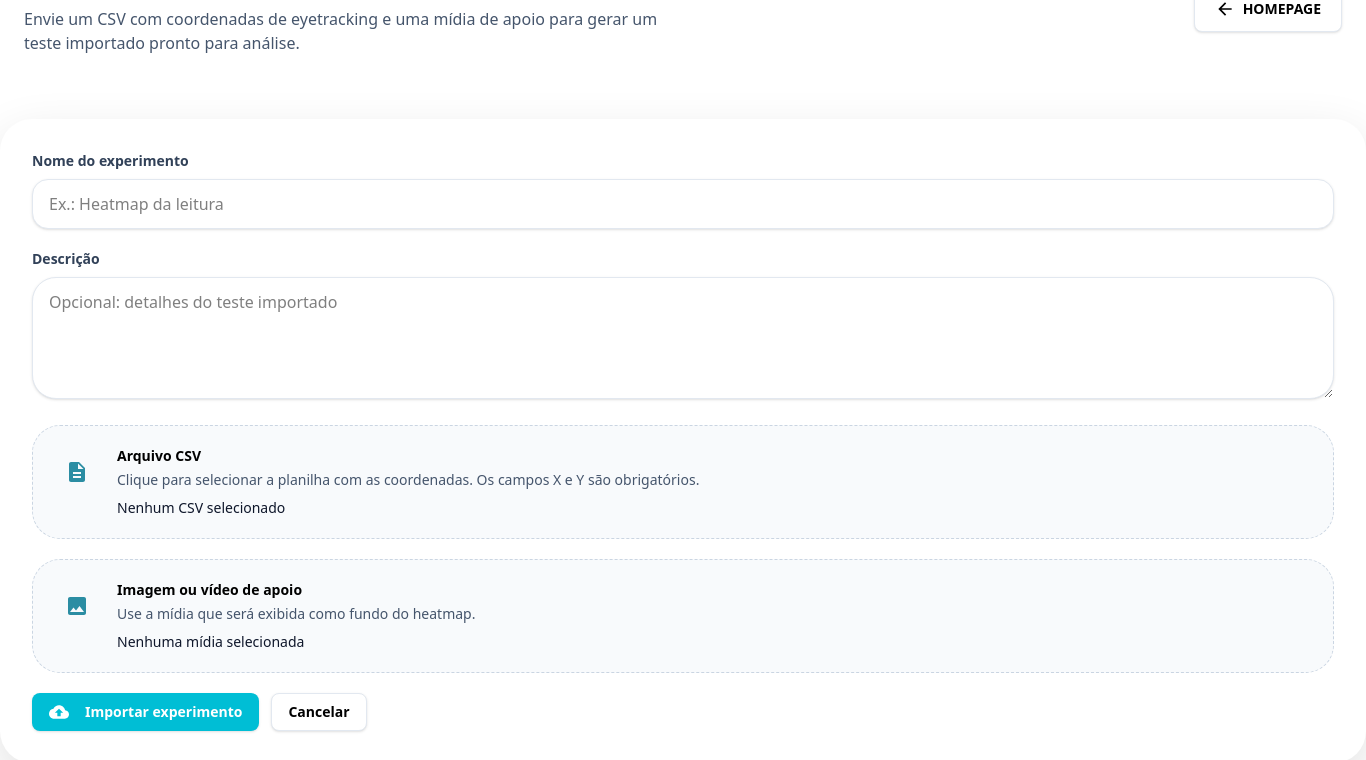
NImportPage › shows validation message when required fields are missing
The width and height of the screenshot is (1366, 760).
(page scrolled)
Click the button "Importar experimento": (146, 712) [32,693,259,731]
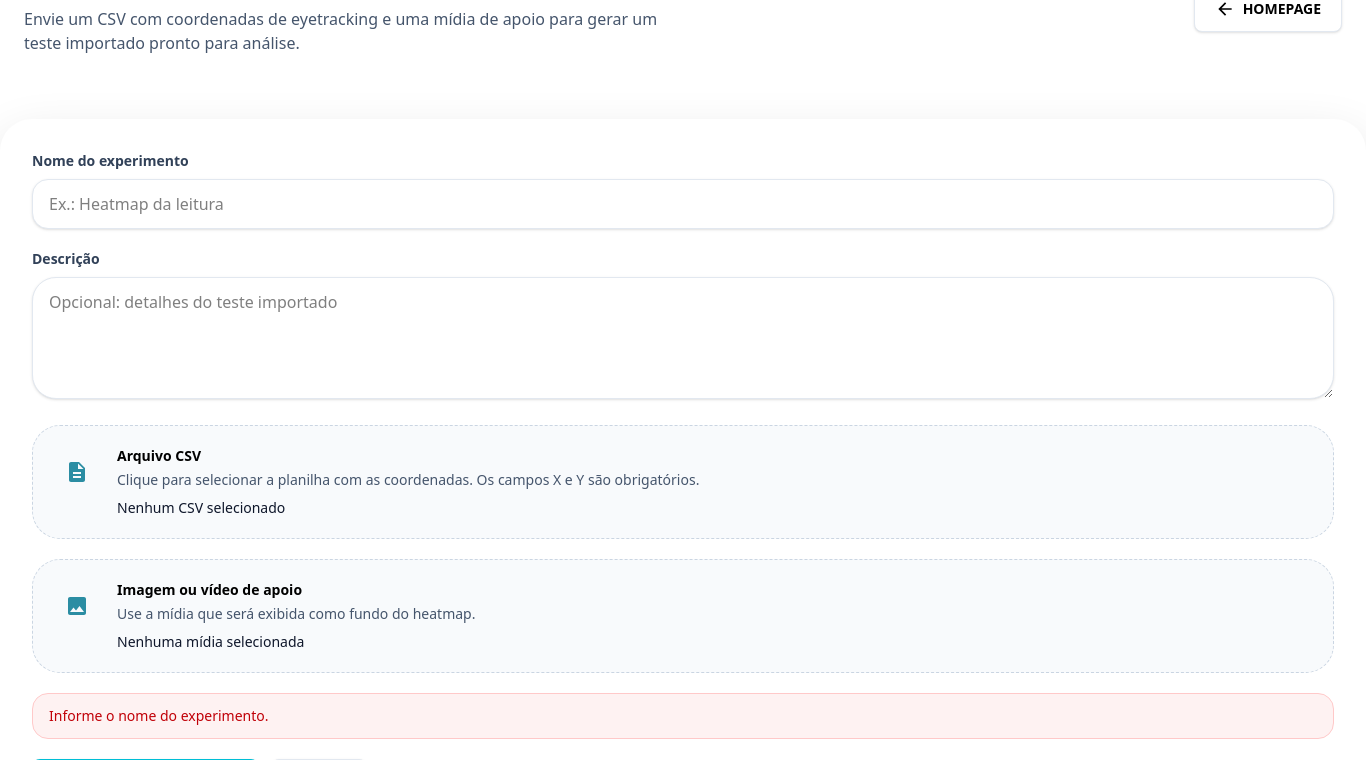
Expected: the text "Informe o nome do experimento." is shown, [32,693,1334,739]
